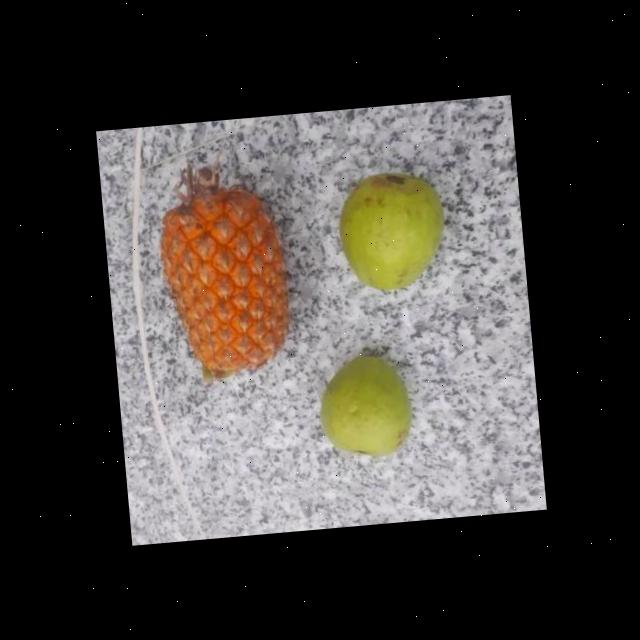guava: (334, 164, 446, 294), (316, 345, 414, 462)
pineapple: (152, 173, 299, 384)
